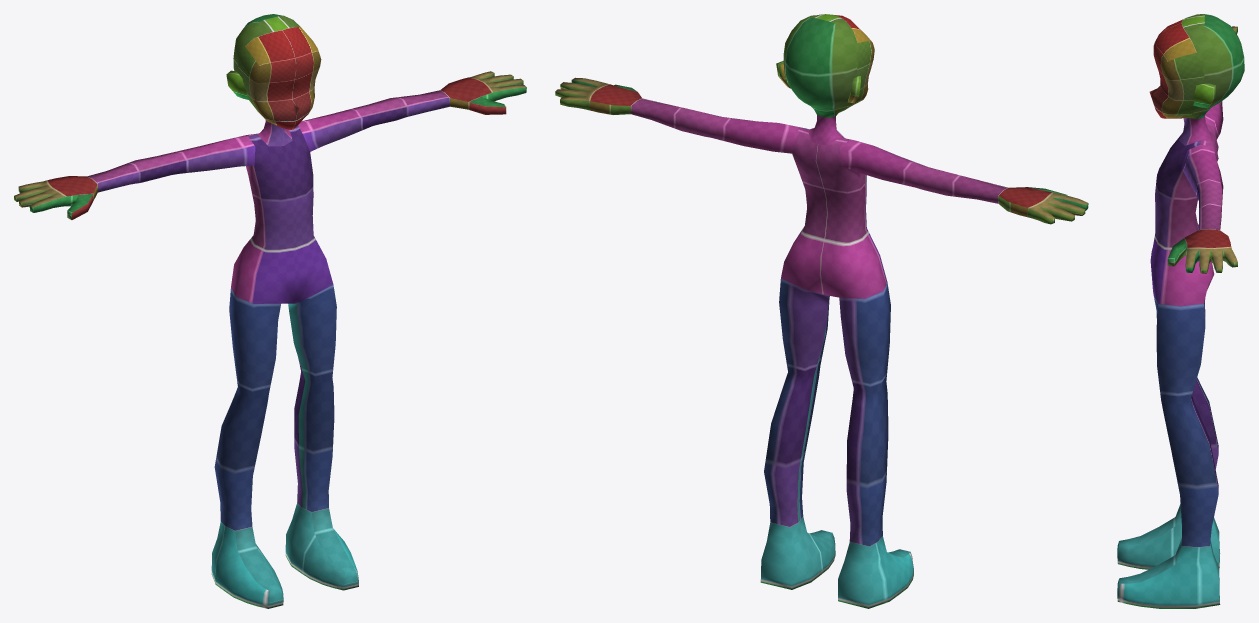
Rendered from teste.glb.
The picture shows the model from 3 angles, left to right: view 1: azimuth 30°, elevation 25°; view 2: azimuth 150°, elevation 25°; view 3: azimuth 270°, elevation 25°; orthographic projection. The views are drawn at different scales.
Visible parts, largest first — view 1: KeyframeChef_LowPoly_Base; view 2: KeyframeChef_LowPoly_Base; view 3: KeyframeChef_LowPoly_Base.
Boxes of the visible parts, x1,y1,x2,y2 form: KeyframeChef_LowPoly_Base: (14,14,526,608); KeyframeChef_LowPoly_Base: (555,14,1088,608); KeyframeChef_LowPoly_Base: (1117,14,1244,608).
Bounding box in the file's own units: 1.54 × 1.61 × 0.3319.
Materials: 1 (1 with a texture image).
